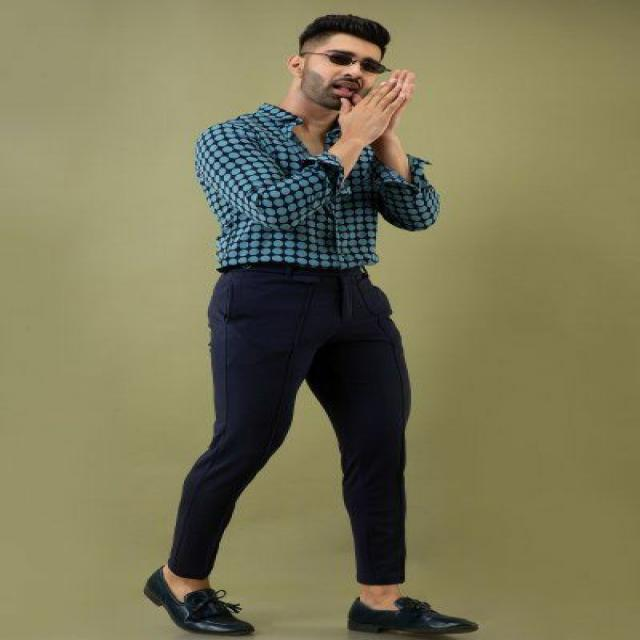male-dress: (190, 106, 424, 617), (173, 270, 426, 605), (191, 113, 436, 279)
